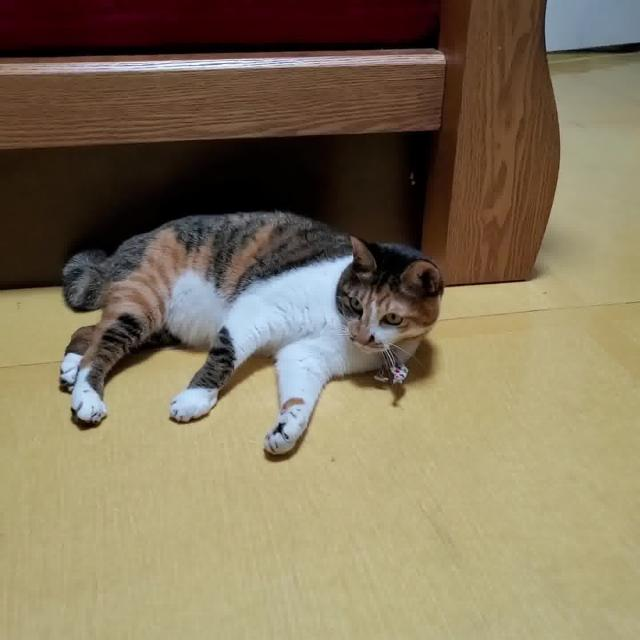cat: (43, 197, 460, 464)
